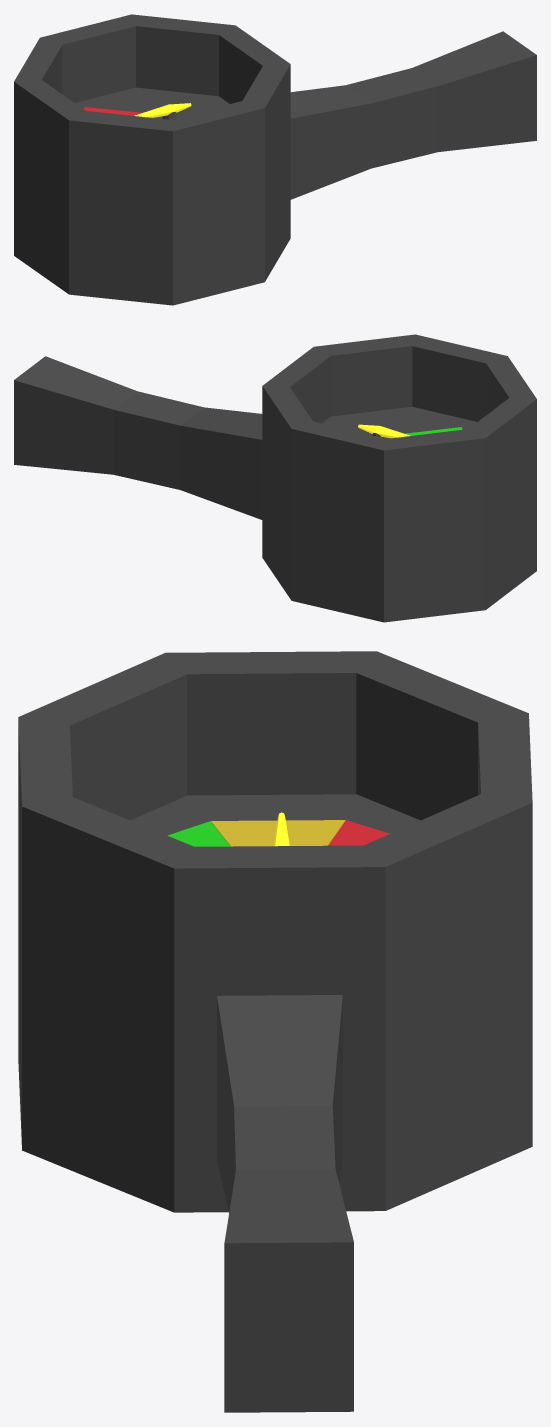
The model's file is Meter.fbx.
The picture shows the model from 3 angles, top to bottom: view 1: azimuth 30°, elevation 25°; view 2: azimuth 150°, elevation 25°; view 3: azimuth 270°, elevation 25°; orthographic projection. The views are drawn at different scales.
Parts seen in each view (by area): view 1: Cylinder.007, Cylinder.009; view 2: Cylinder.007, Cylinder.009; view 3: Cylinder.007.
Part boxes in pixels (x1,y1,x2,y2): Cylinder.007: [14, 14, 536, 305]; Cylinder.009: [134, 103, 191, 117]; Cylinder.007: [14, 334, 536, 622]; Cylinder.009: [358, 424, 410, 438]; Cylinder.007: [18, 651, 532, 1412].
Size of the model in its own units: 95.65 by 32.87 by 44.52.
